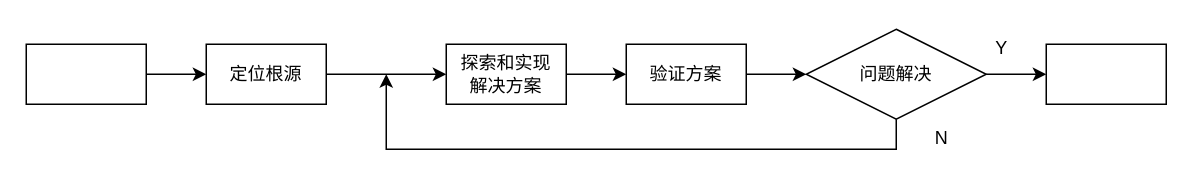
Some shapes in this 1193 by 188 pixel diagram are drawn without their labels. Each missing label, with the centre of its shape:
关闭问题: point 1105,73
重现故障: point 85,73
